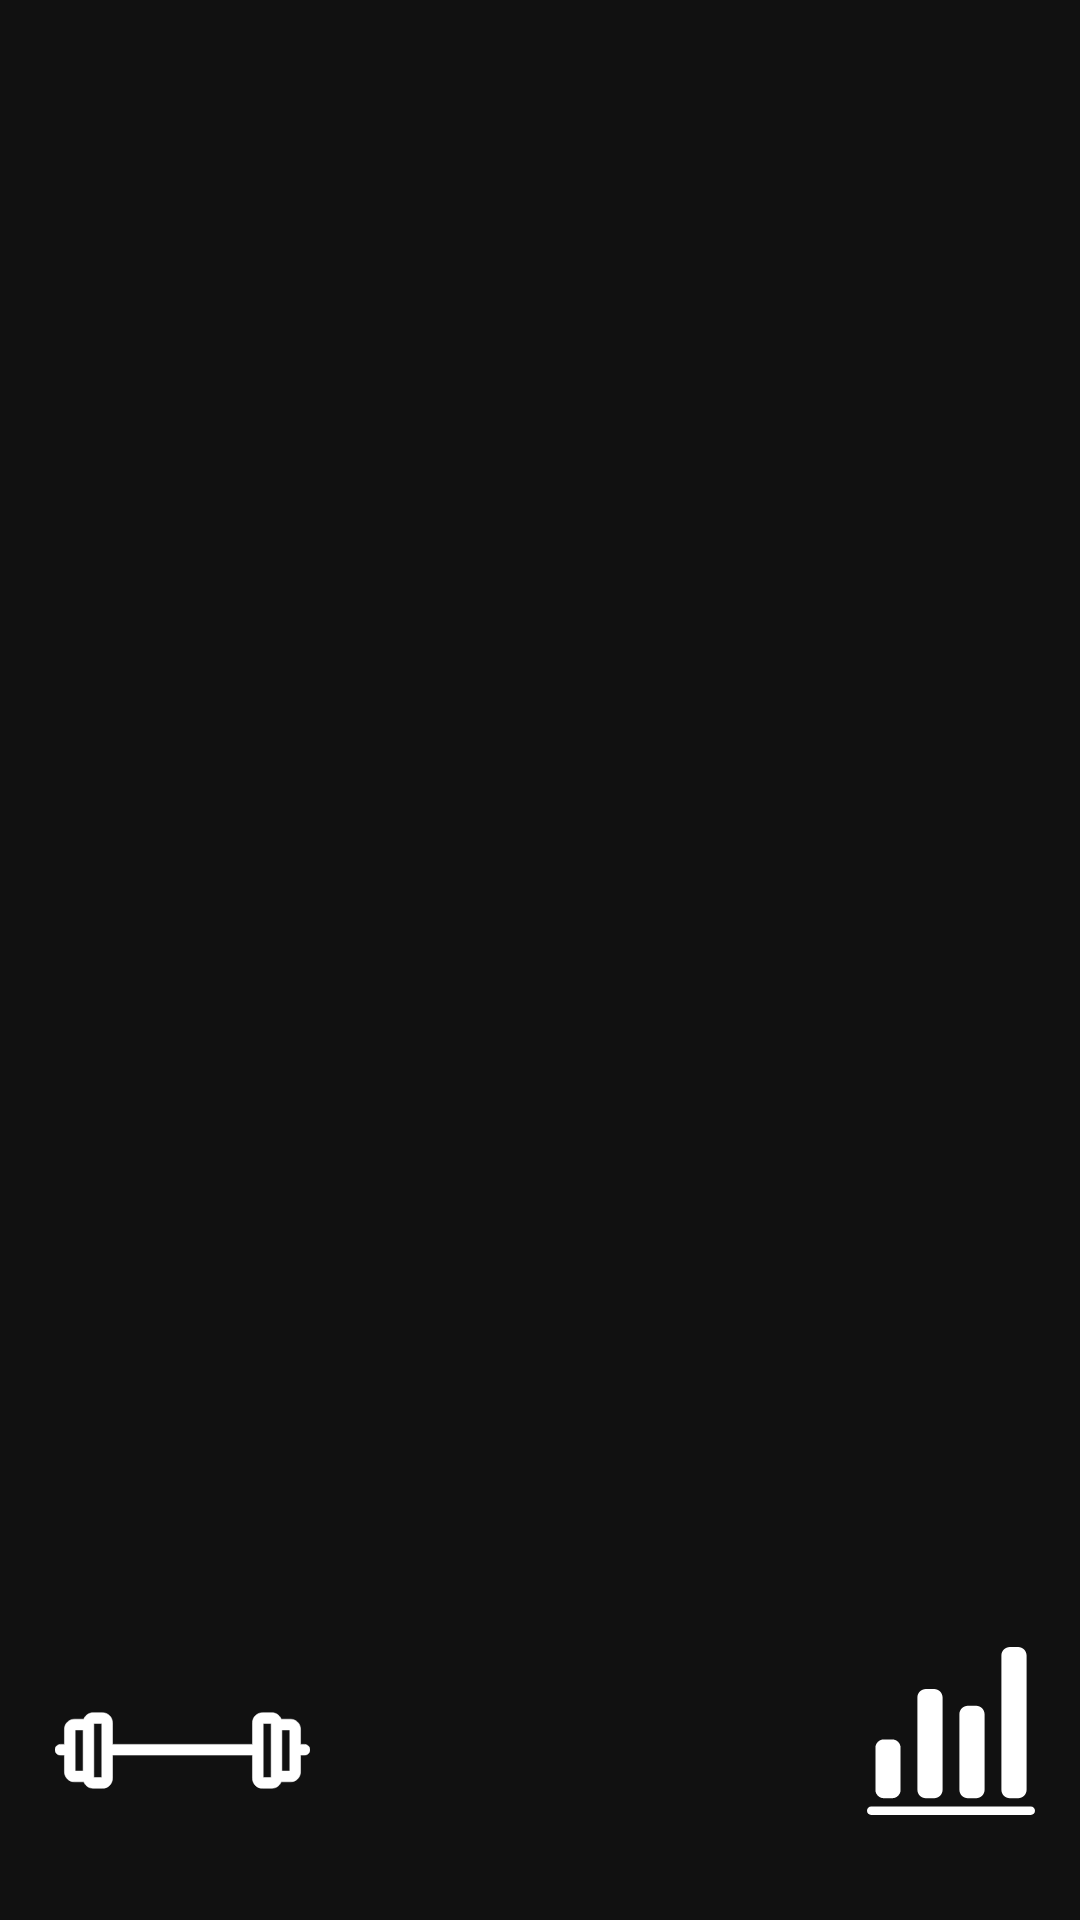

Icons on this 1080x1920 Android screen, each with its box as region(x1, y1, x2, y2):
bar chart graph: region(867, 1647, 1035, 1815)
barbell: region(55, 1712, 310, 1789)
